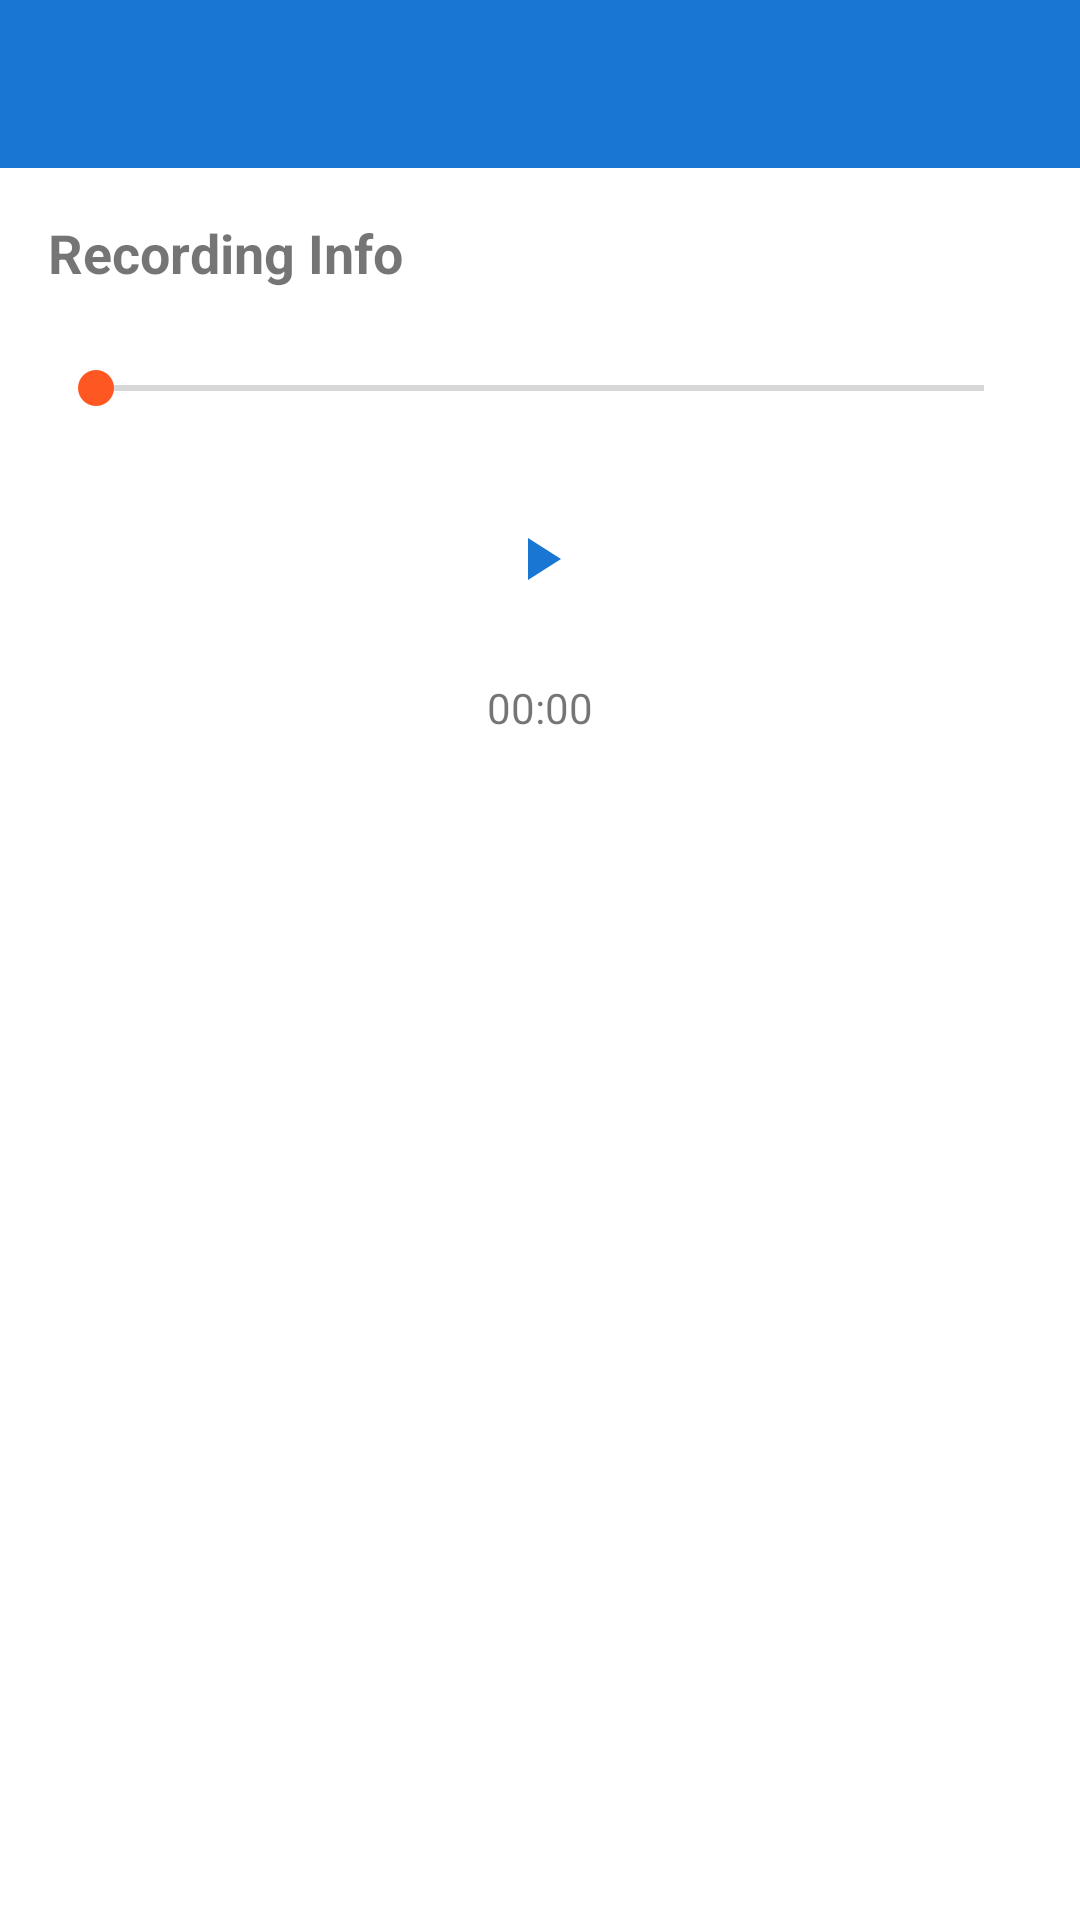

Icon bounding boxes for this 1080x1920 phone screenshot, format (x1, y1, x2, y2):
Play/Pause: (528, 538, 561, 580)
